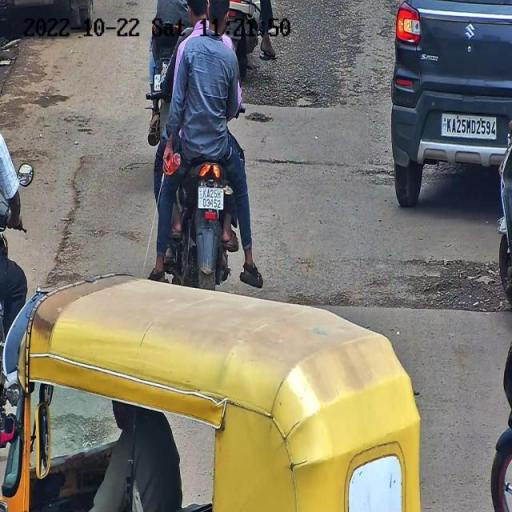tripple riding: (158, 0, 248, 173)
